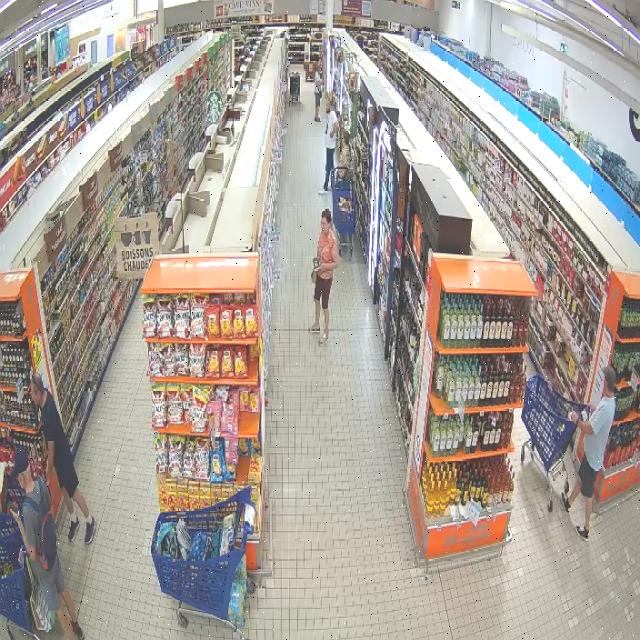article: (313, 257, 321, 269)
bags: (25, 478, 57, 569), (316, 83, 322, 98), (311, 271, 317, 283)
hands: (10, 509, 20, 524), (47, 467, 53, 483), (317, 263, 325, 275), (570, 412, 578, 423), (589, 404, 597, 413), (330, 131, 334, 137)
person: (12, 449, 84, 639), (30, 374, 96, 544), (561, 367, 615, 540), (309, 209, 339, 345), (320, 97, 339, 194), (338, 128, 350, 180), (314, 69, 322, 122)
